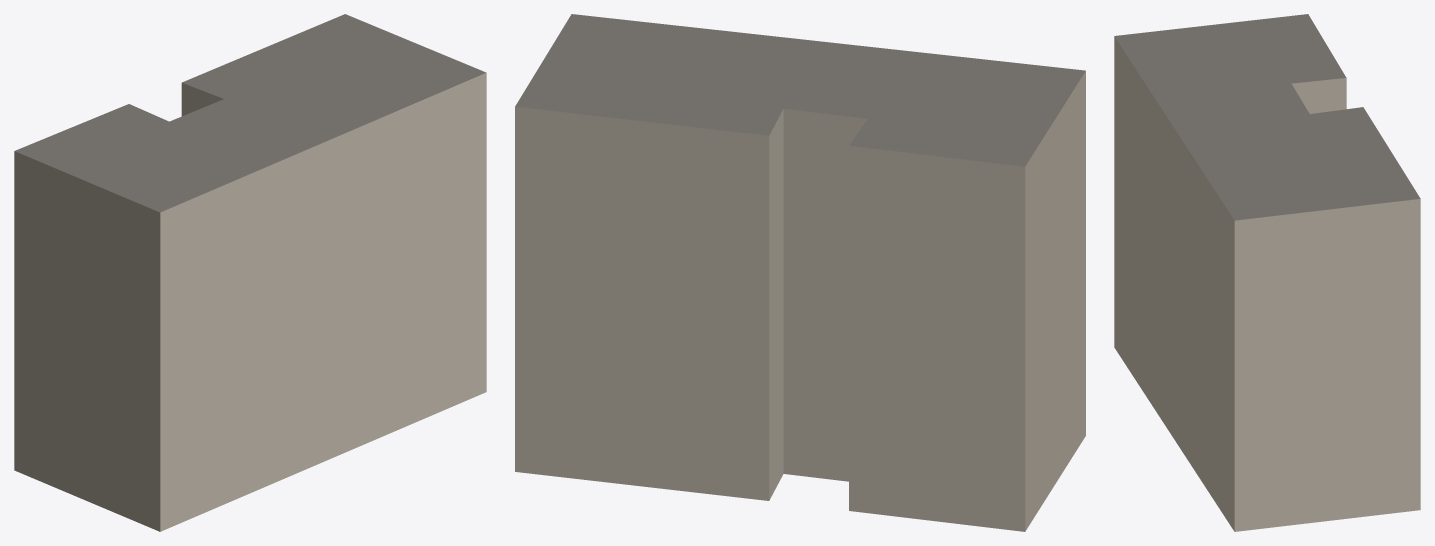
3 views of the same model, side by side, from view 1: azimuth 30°, elevation 25°; view 2: azimuth 150°, elevation 25°; view 3: azimuth 270°, elevation 25° (orthographic). The views are drawn at different scales.
Visible parts, largest first — view 1: HP-w505643619; view 2: HP-w505643619; view 3: HP-w505643619.
Boxes of the visible parts, <box> form: HP-w505643619: <box>14,14,486,531</box>; HP-w505643619: <box>515,14,1085,531</box>; HP-w505643619: <box>1114,14,1420,531</box>.
Size of the model in its own units: 21.35 by 15 by 13.38.
